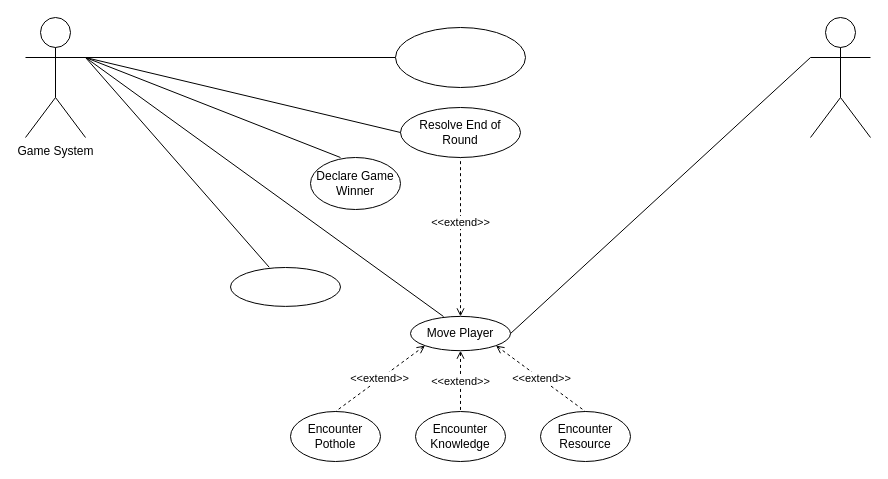
The diagram is 888 pixels wide and 479 high, and some of its shapes have lost their labels. The box of each missing label's shape, as (x1, y1, x2, y2) in pixels:
Display Player Score: (230, 266, 340, 306)
Player: (810, 16, 870, 138)
Start Game Setup & Player Introduction: (394, 26, 526, 88)
